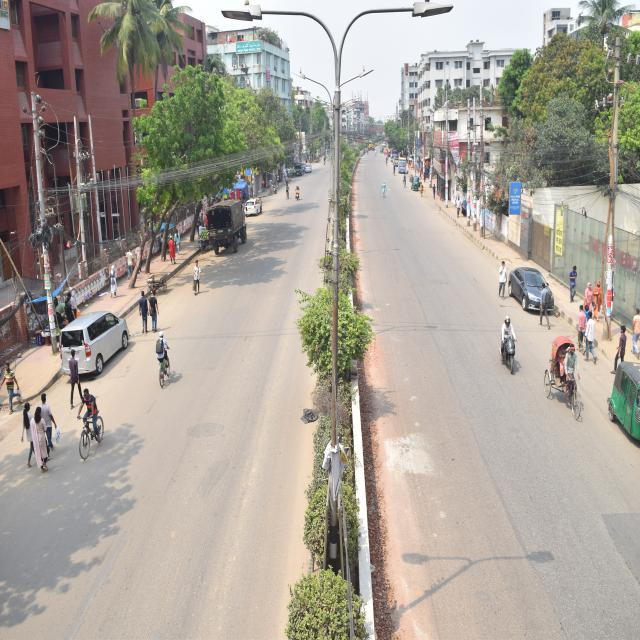car: (47, 285, 177, 400), (498, 245, 580, 328), (243, 188, 275, 234), (303, 159, 315, 183)
motorbike: (462, 289, 528, 382), (292, 185, 304, 211)
pickup-van: (396, 153, 410, 184), (294, 159, 309, 186)
truck: (180, 182, 272, 273)
